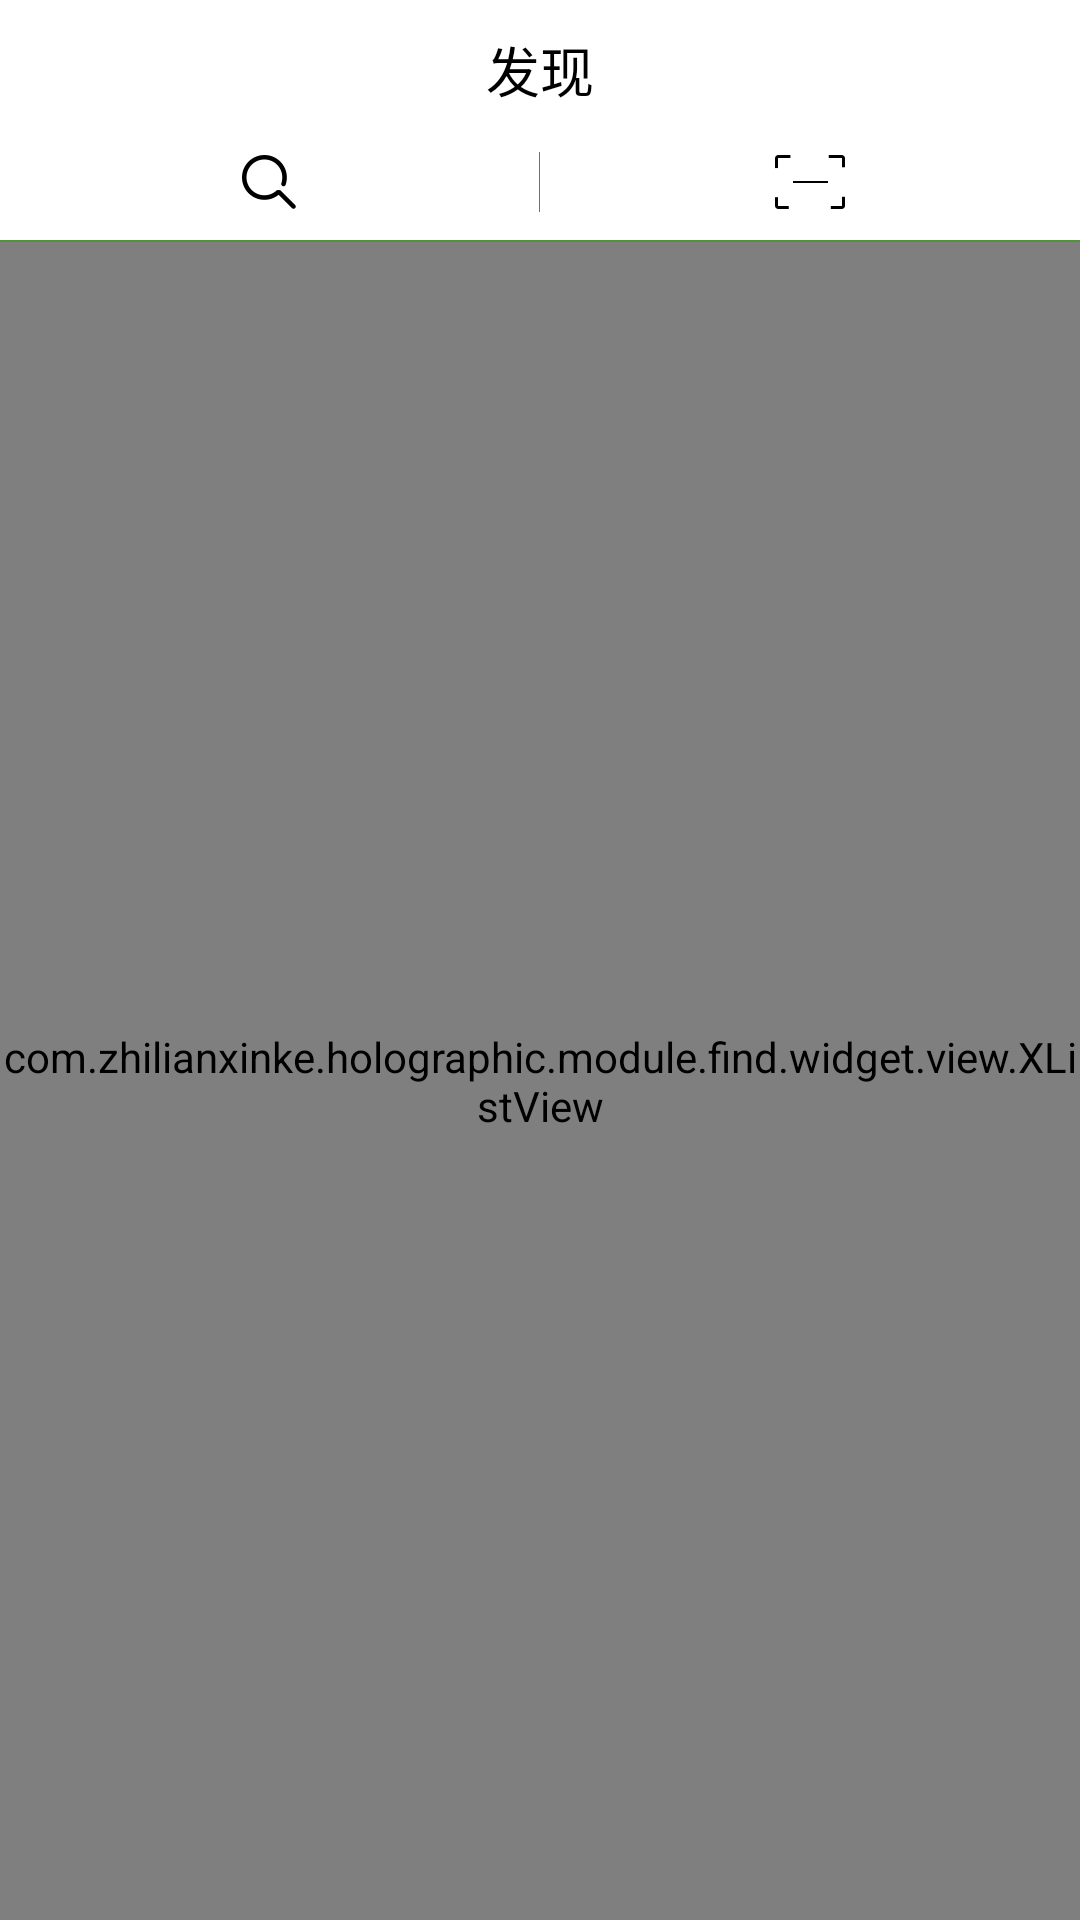

Where icons sit on this 1080*1920 app screen, as {"left": x1, "top": y1, "right": x2, "bottom": y2}:
search: {"left": 242, "top": 155, "right": 296, "bottom": 209}
zxing: {"left": 775, "top": 155, "right": 845, "bottom": 209}
